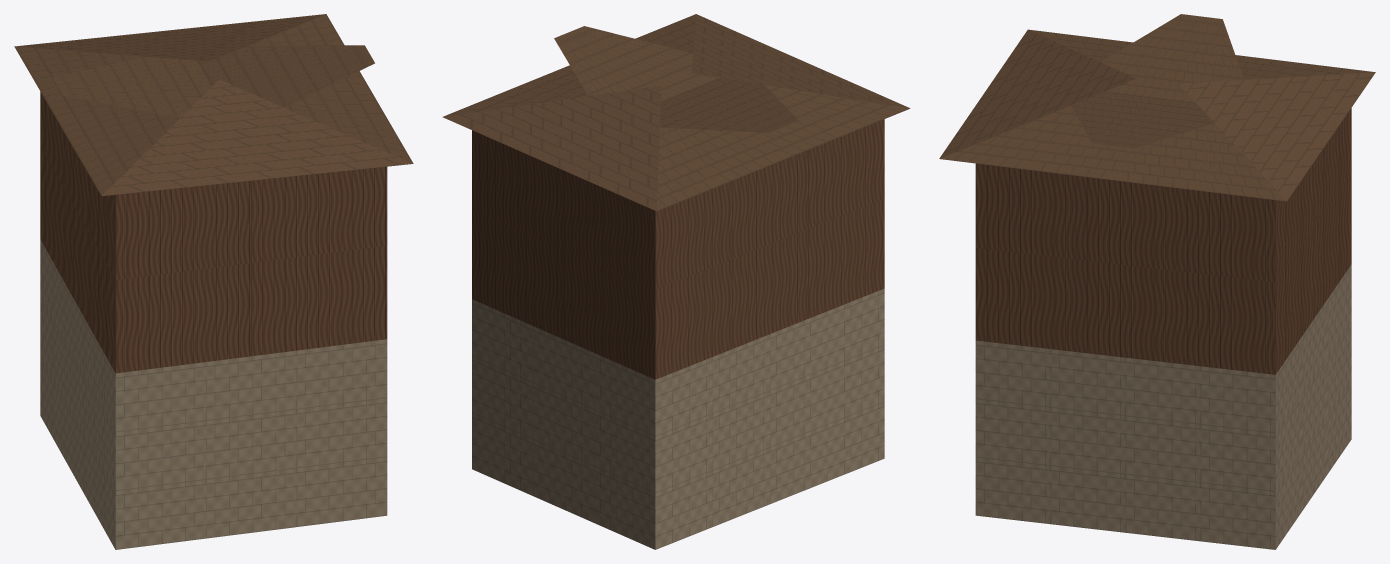
The model's file is bld_c5_5_495.gltf.
The picture shows the model from 3 angles, left to right: view 1: azimuth 30°, elevation 25°; view 2: azimuth 150°, elevation 25°; view 3: azimuth 270°, elevation 25°; orthographic projection. The views are drawn at different scales.
Visible parts, largest first — view 1: bld_c5_5_495; view 2: bld_c5_5_495; view 3: bld_c5_5_495.
Part boxes in pixels (x1,y1,x2,y2): bld_c5_5_495: [14, 14, 413, 549]; bld_c5_5_495: [442, 14, 910, 549]; bld_c5_5_495: [939, 14, 1375, 549].
Size of the model in its own units: 10.75 by 11.5 by 11.53.
3 materials, 3 textured.
